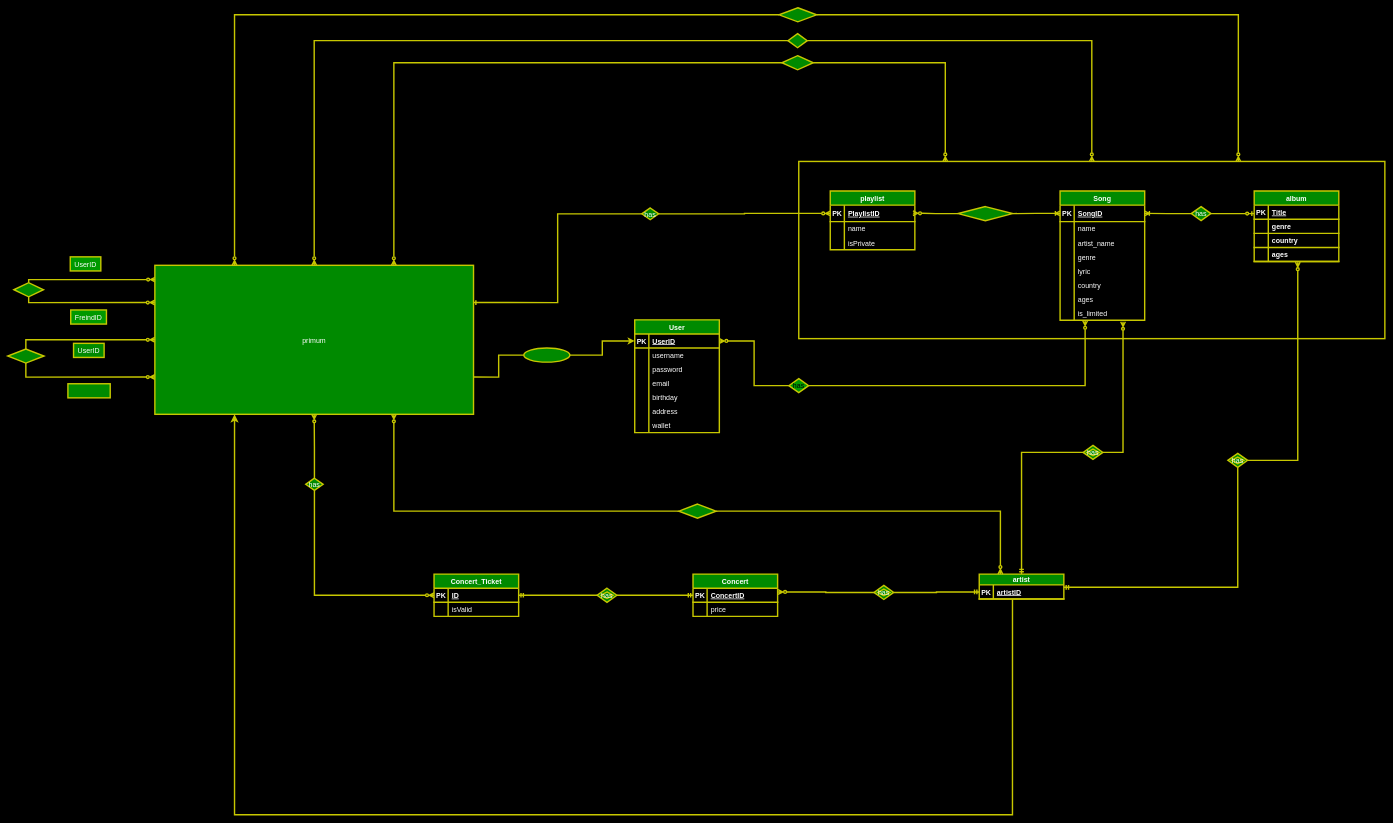
This 1393x823 diagram has some shape labels left out. Each missing label, with the centre of its shape:
comment: point 797,14
fav_atrist: point 697,511
favorite: point 797,62
FollowerID: point 89,390
followers: point 25,356
freinds: point 28,289
like: point 797,40
Playlist_Songs: point 985,213
subscription: point 546,355
